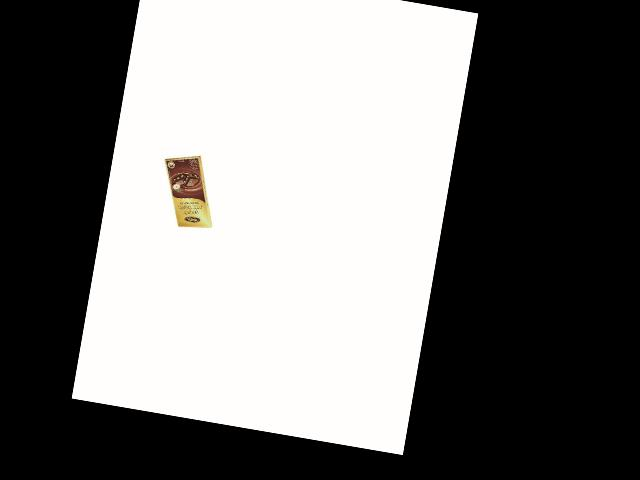chocolate: (153, 143, 226, 233)
